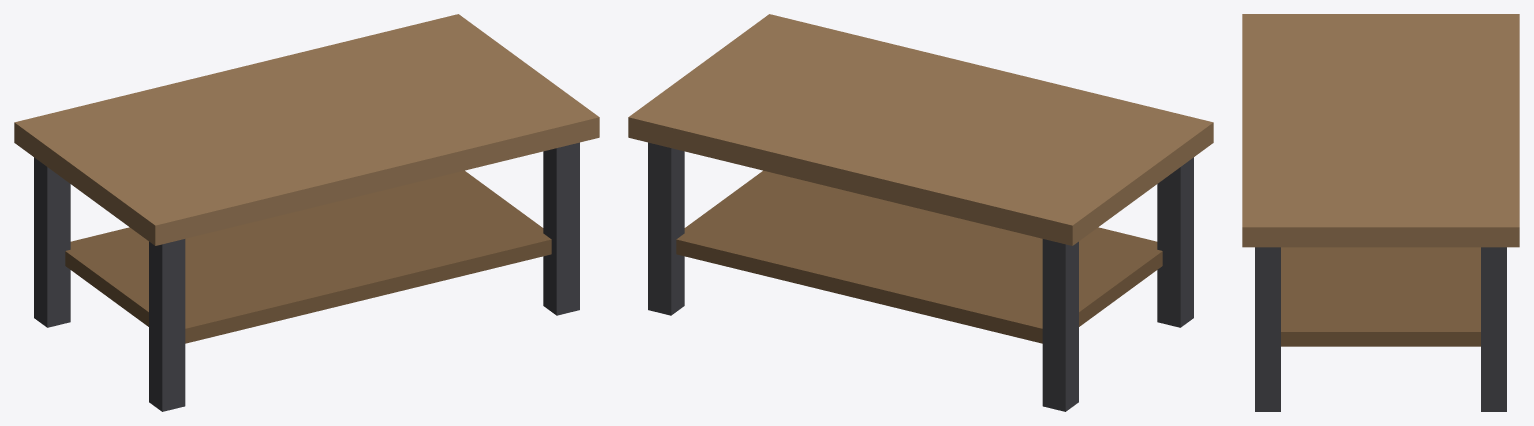
File: coffee_table.glb
3 renders of one model, left to right at view 1: azimuth 30°, elevation 25°; view 2: azimuth 150°, elevation 25°; view 3: azimuth 270°, elevation 25°, orthographic.
Parts seen in each view (by area): view 1: Coffee Table; view 2: Coffee Table; view 3: Coffee Table.
Part boxes in pixels (box(x1,y1,x2,y2)): Coffee Table: box(14, 14, 599, 411); Coffee Table: box(628, 14, 1213, 411); Coffee Table: box(1242, 14, 1519, 411).
Size of the model in its own units: 0.5 by 0.209 by 0.275.
